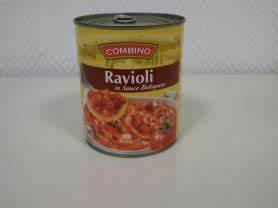metal: (74, 13, 185, 156)
